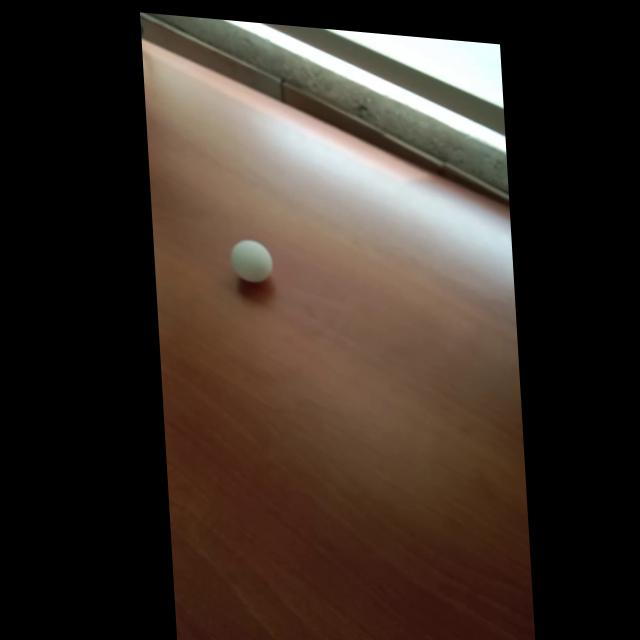white ball: (230, 237, 275, 285)
